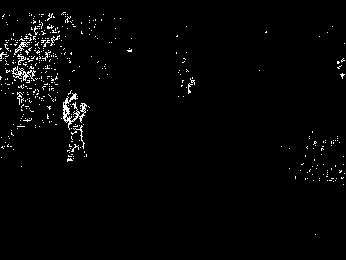person: (61, 89, 89, 162)
